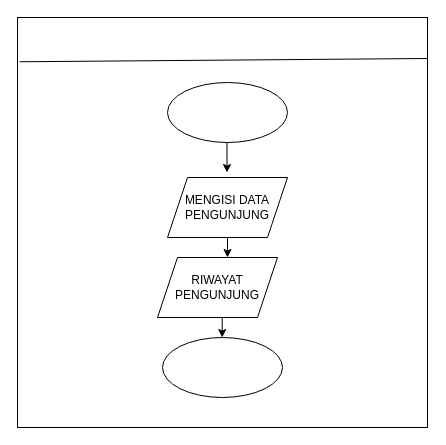
Some shapes in this 446 by 445 pixel diagram are drawn without their labels. Each missing label, with the centre of its shape:
"END" belongs at (x=222, y=367).
"START" belongs at (x=227, y=112).
